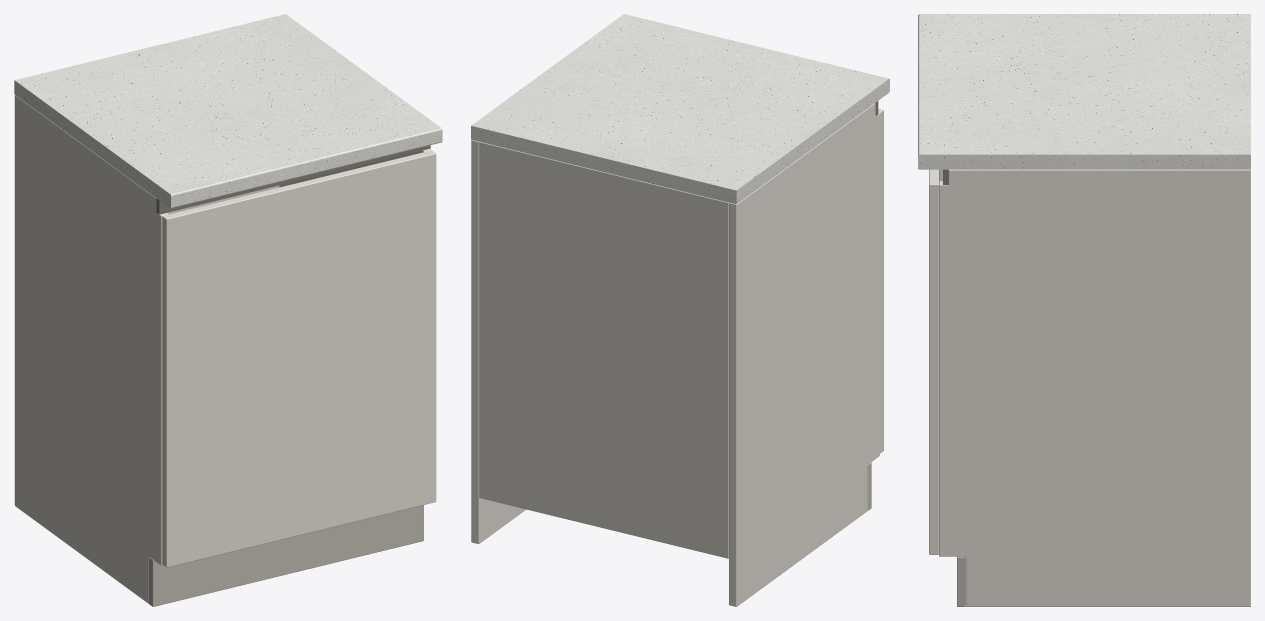
The model's file is counter_base_60.glb.
3 views of the same model, side by side, from view 1: azimuth 30°, elevation 25°; view 2: azimuth 150°, elevation 25°; view 3: azimuth 270°, elevation 25° (orthographic). The views are drawn at different scales.
Parts seen in each view (by area): view 1: counter_base_60_fronts, counter_base_60_carcass, counter_base_60_countertop, counter_base_60_gola; view 2: counter_base_60_carcass, counter_base_60_countertop, counter_base_60_fronts; view 3: counter_base_60_carcass, counter_base_60_countertop, counter_base_60_fronts.
Boxes of the visible parts, <box> form: counter_base_60_fronts: <box>162,150,436,567</box>; counter_base_60_carcass: <box>14,95,431,606</box>; counter_base_60_countertop: <box>14,14,442,208</box>; counter_base_60_gola: <box>156,145,430,214</box>; counter_base_60_carcass: <box>471,103,879,606</box>; counter_base_60_countertop: <box>471,14,889,204</box>; counter_base_60_fronts: <box>878,108,883,453</box>; counter_base_60_carcass: <box>939,169,1250,606</box>; counter_base_60_countertop: <box>918,14,1250,169</box>; counter_base_60_fronts: <box>929,169,938,554</box>.
Size of the model in its own units: 0.6 by 0.9 by 0.6.
5 materials, 1 textured.
